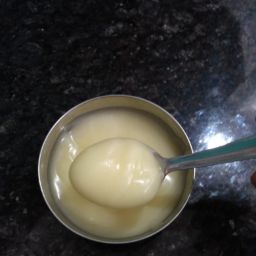Clarified Butter(ghee): (54, 110, 179, 227), (62, 134, 167, 212), (85, 121, 147, 206)
